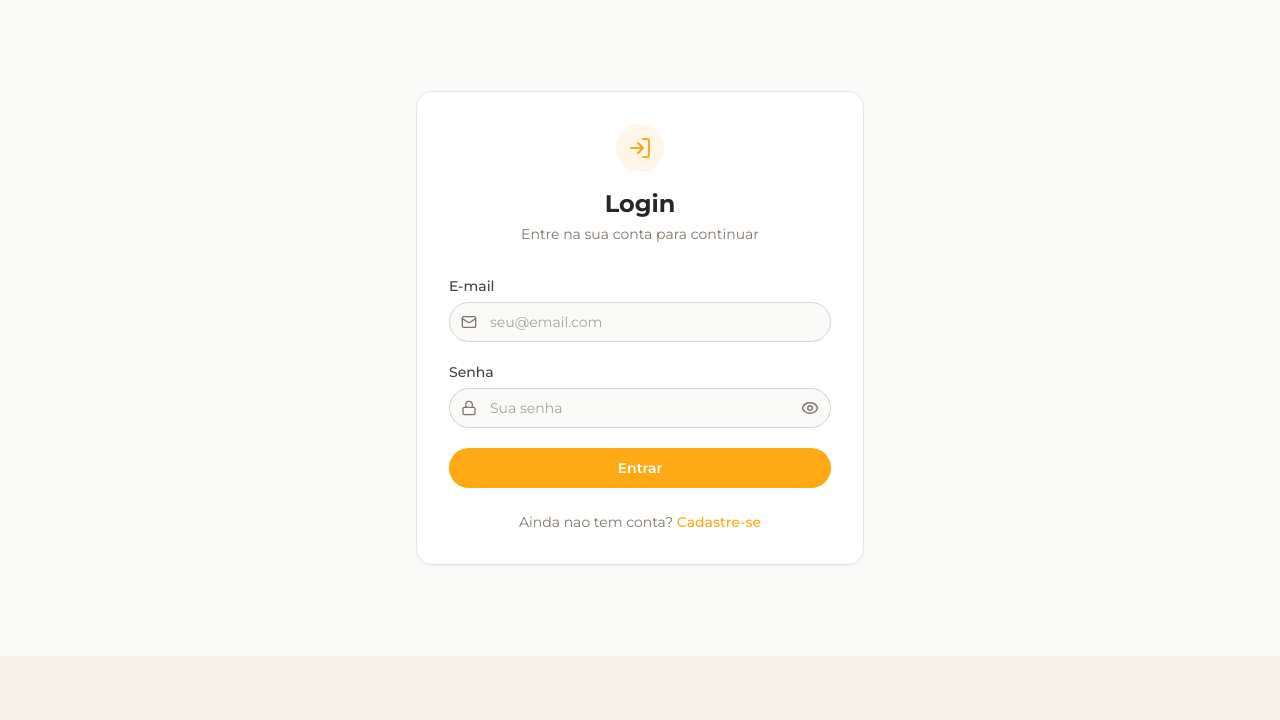
Test: LoginPage (Integração de UI) › deve exibir mensagem de erro na UI quando o login falha
Type "errado@email.com" into the field labelled "E-mail" at (640, 322), box 449,302 -> 831,342
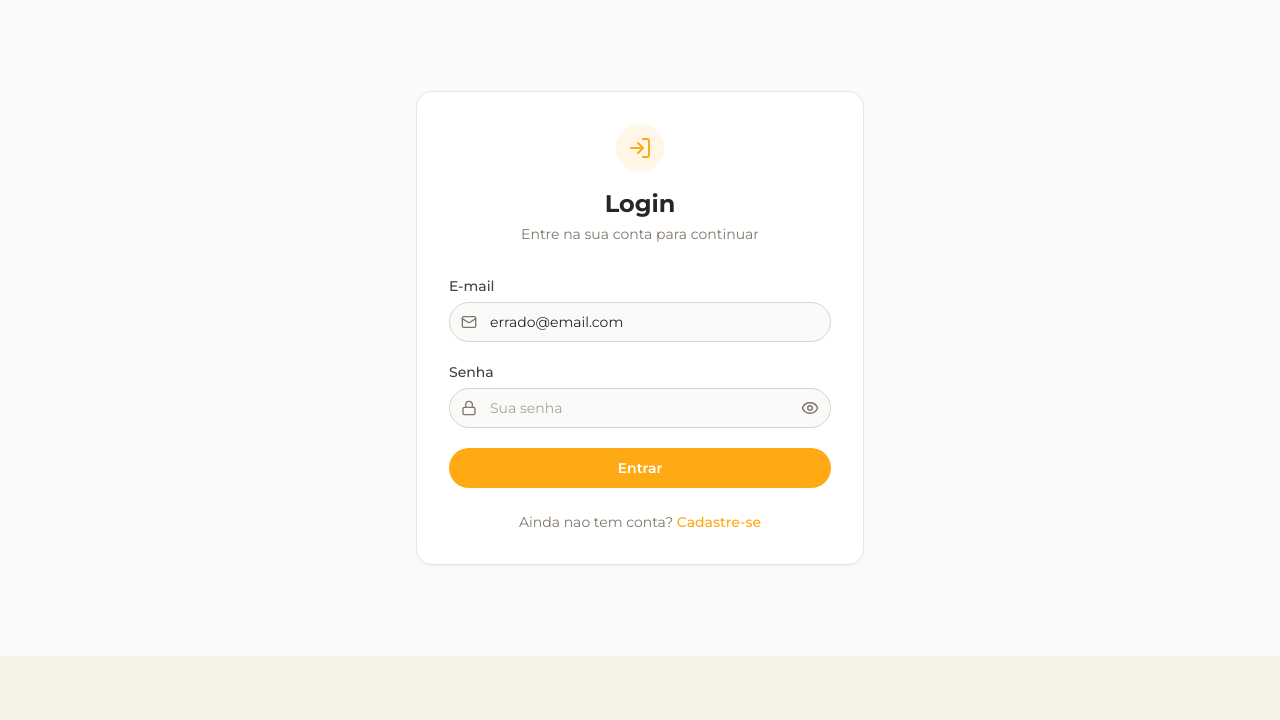
Type "errado" into the password field labelled "Senha" at (640, 408), box 449,388 -> 831,428
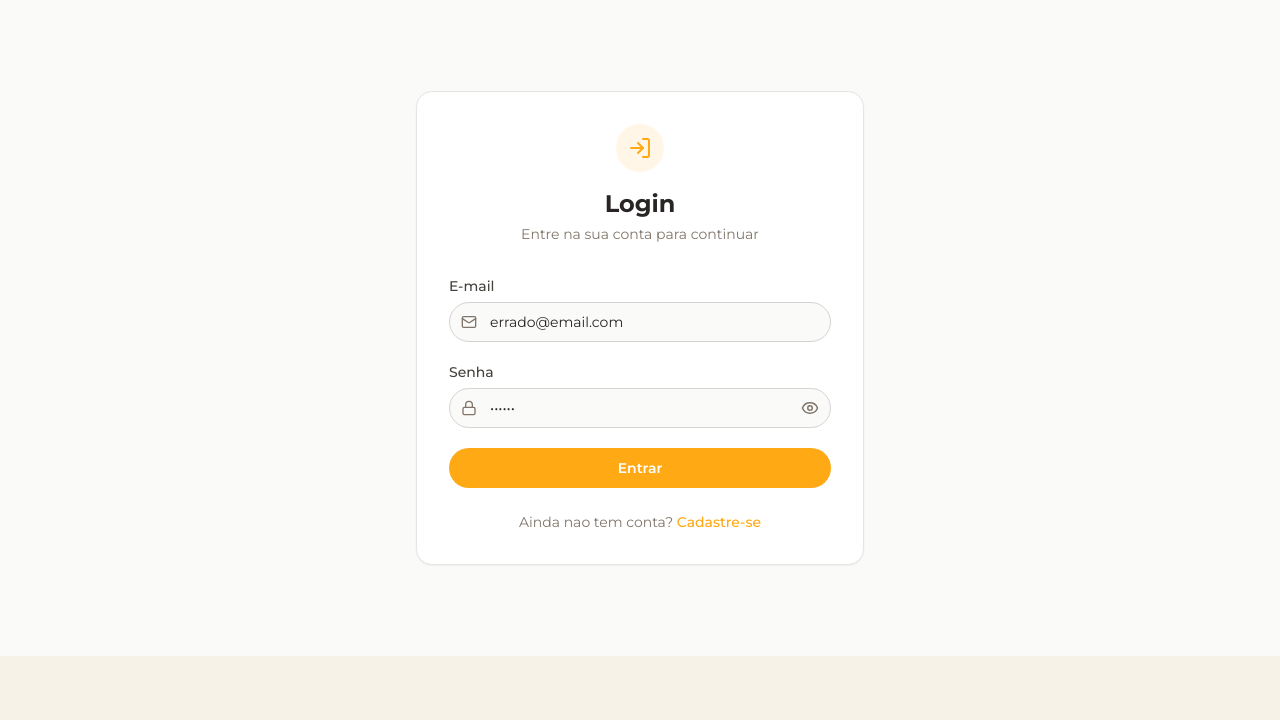
Click the button "Entrar" at (640, 468), box 449,448 -> 831,488
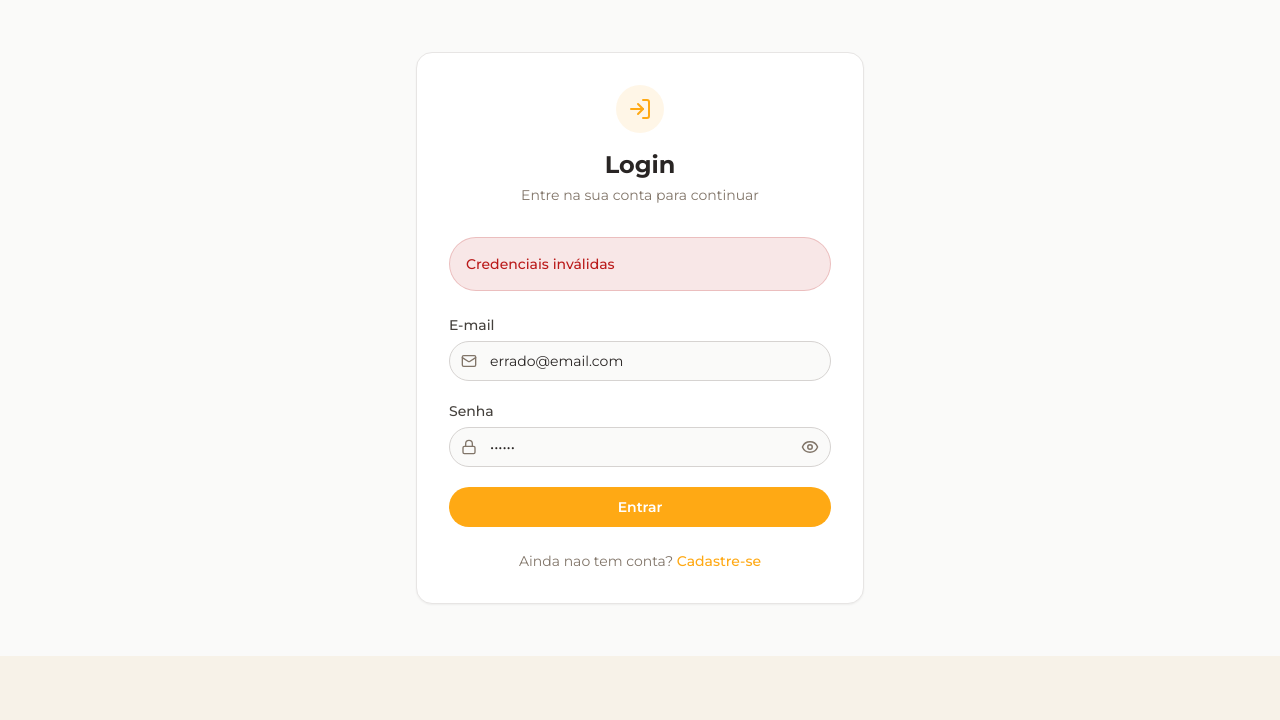
Expected: the text "Credenciais inválidas" is shown, 449,237 -> 831,291
